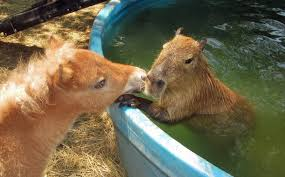capivara: (116, 26, 257, 139)
